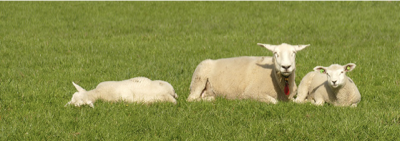koyun: (187, 41, 301, 104), (66, 71, 178, 106), (304, 62, 362, 107)
